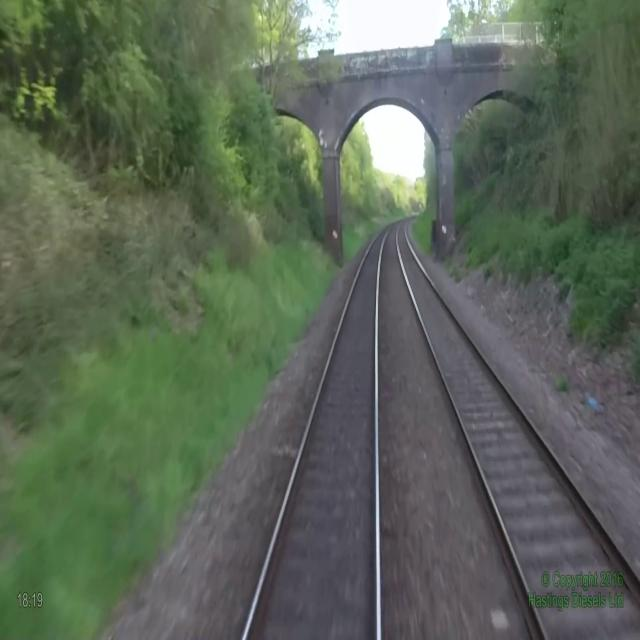rail-track: (397, 217, 640, 639), (245, 219, 403, 639)
